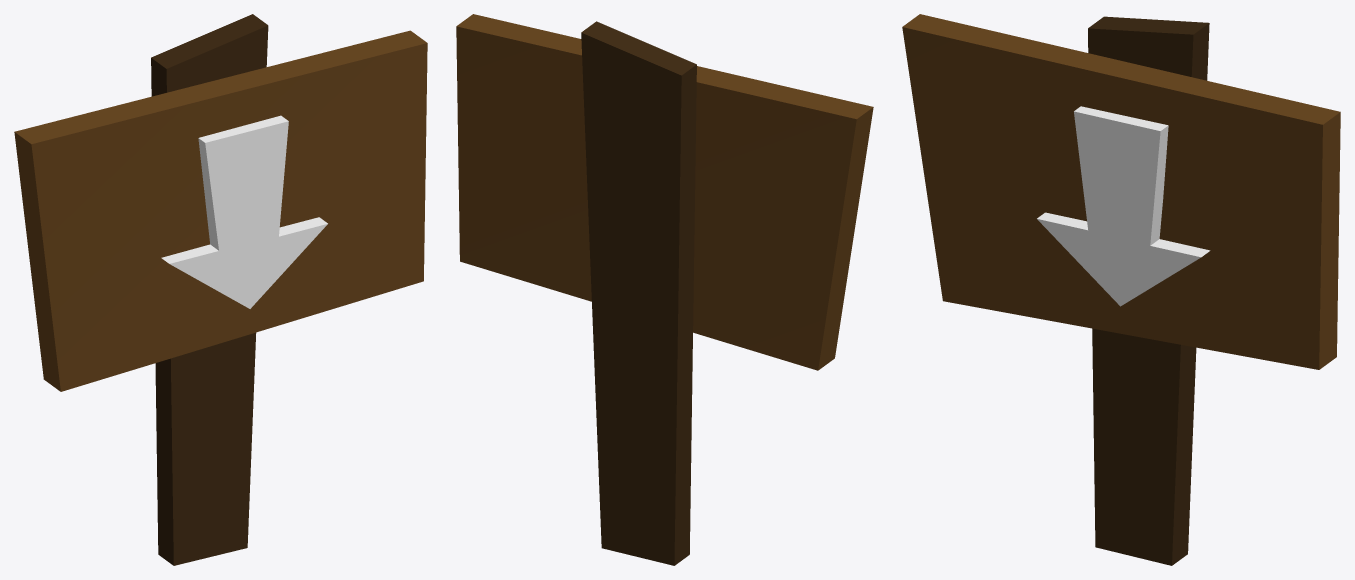
The model's file is sign.fbx.
3 views of the same model, side by side, from view 1: azimuth 30°, elevation 25°; view 2: azimuth 150°, elevation 25°; view 3: azimuth 330°, elevation 25° (orthographic). The views are drawn at different scales.
Visible parts, largest first — view 1: Schild, Pfahl, Pfeil; view 2: Schild, Pfahl; view 3: Schild, Pfahl, Pfeil.
Part boxes in pixels (x1,y1,x2,y2): Schild: (14,30,427,391); Pfahl: (151,14,268,565); Pfeil: (161,115,327,308); Schild: (456,14,873,370); Pfahl: (581,21,696,565); Schild: (902,14,1340,369); Pfahl: (1088,16,1209,565); Pfeil: (1037,106,1210,306).
Size of the model in its own units: 87.03 by 107 by 15.65.
